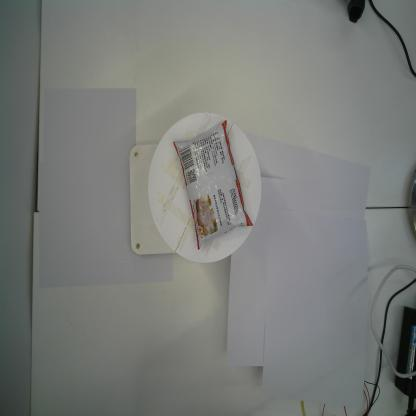Seasoner: (173, 118, 253, 250)
